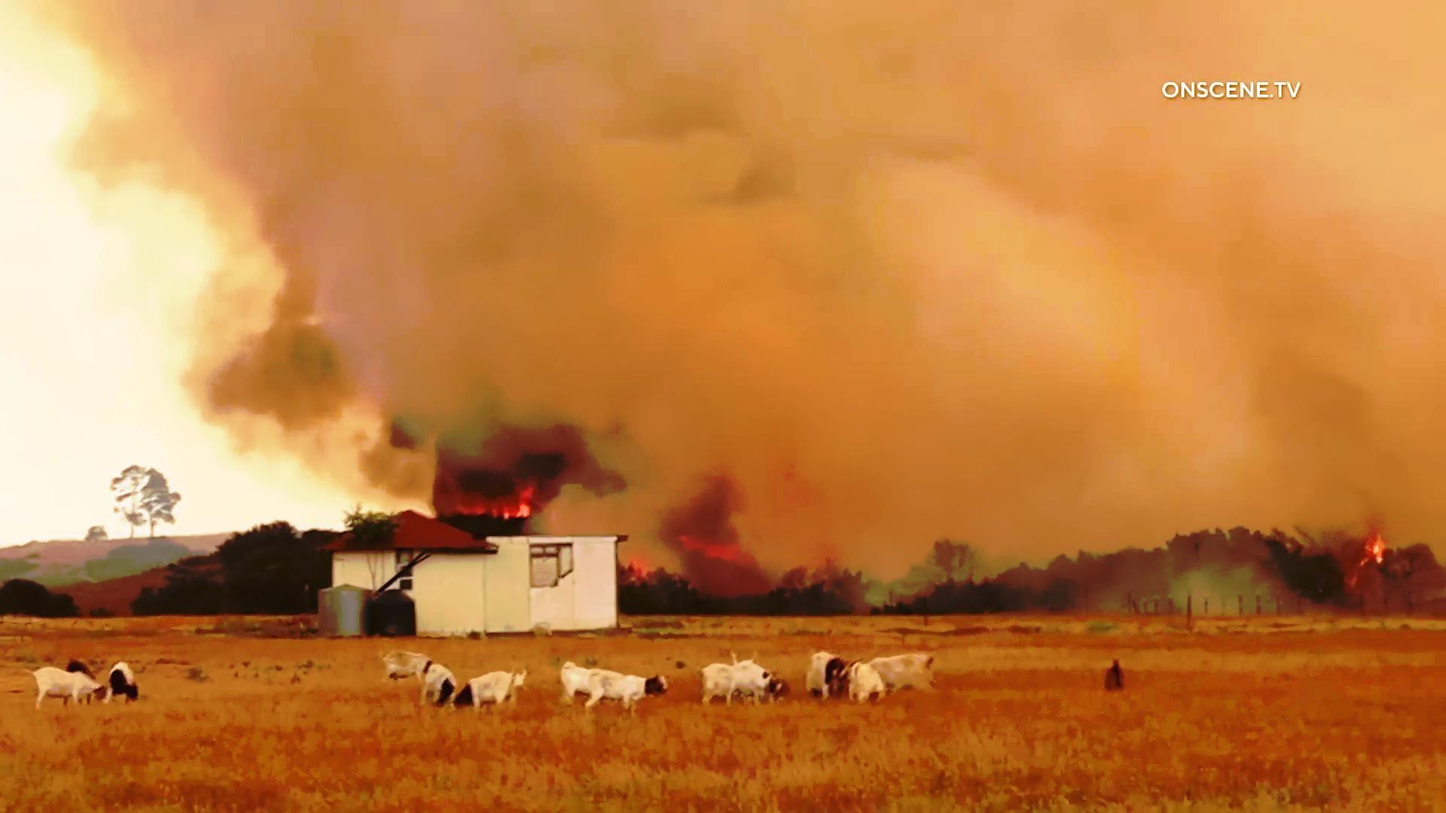fire: (1380, 505, 1446, 577), (456, 483, 540, 527)
smoke: (714, 118, 1394, 458)
